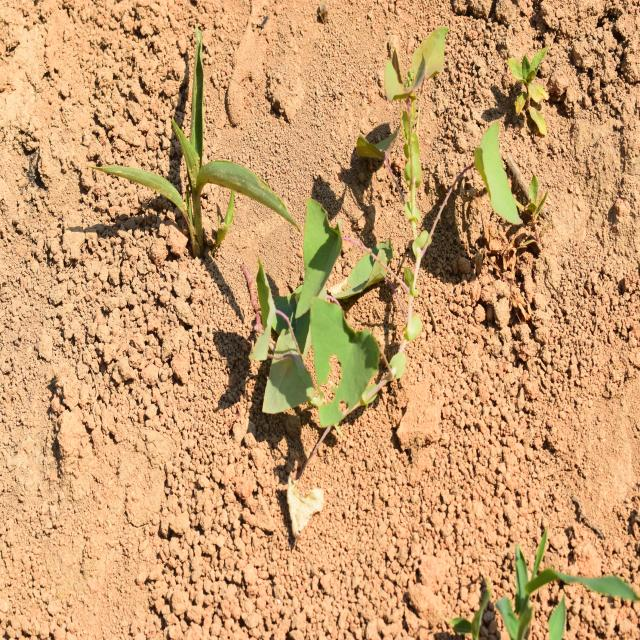Asiatic_Smartweed: (239, 210, 412, 431), (340, 35, 510, 206)
